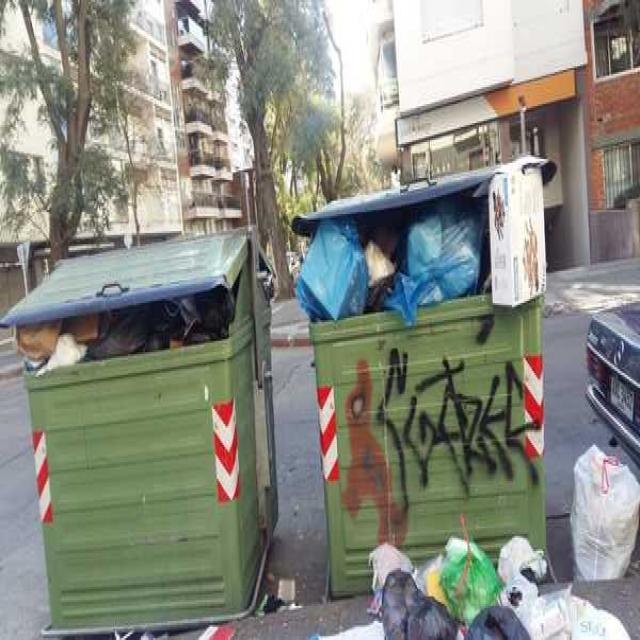garbage: (340, 526, 627, 638), (304, 216, 486, 316), (14, 295, 246, 354), (574, 440, 639, 616)
